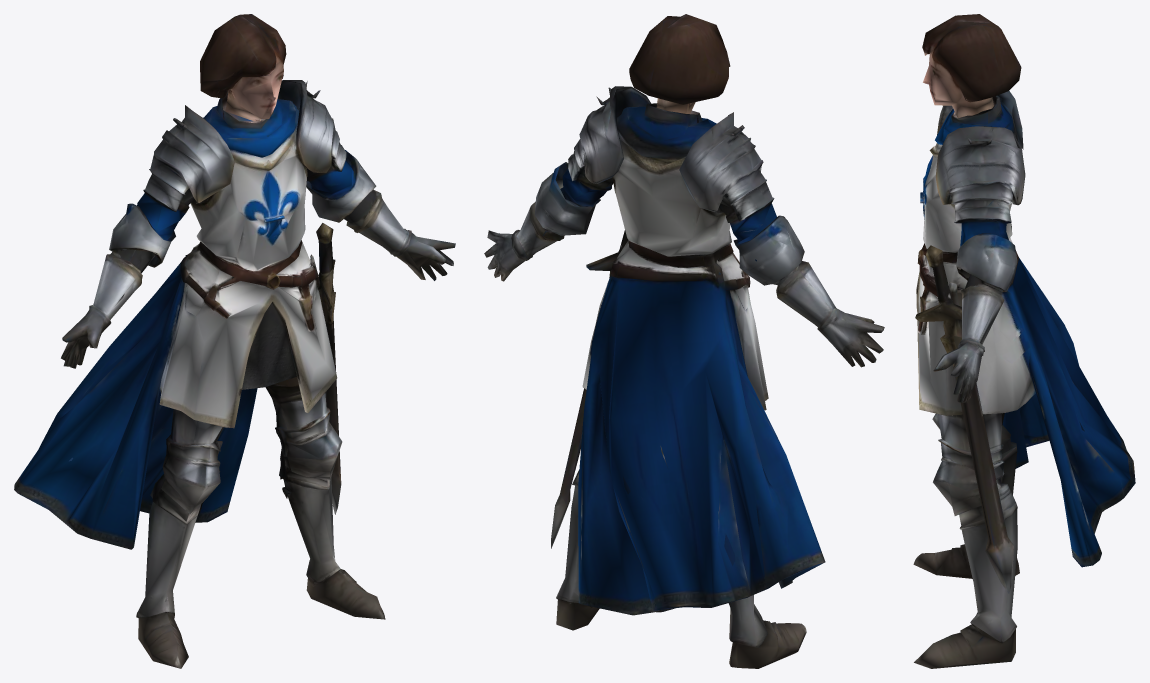
File: hum_h2_lo.glb
3 views of the same model, side by side, from view 1: azimuth 30°, elevation 25°; view 2: azimuth 150°, elevation 25°; view 3: azimuth 270°, elevation 25° (orthographic). The views are drawn at different scales.
Parts seen in each view (by area): view 1: node_0; view 2: node_0; view 3: node_0.
Boxes of the visible parts, x1,y1,x2,y2 form: node_0: (14,14,455,668); node_0: (484,14,884,668); node_0: (913,14,1135,668).
Bounding box in the file's own units: 0.7302 × 1.08 × 0.3653.
Materials: 1 (1 with a texture image).
